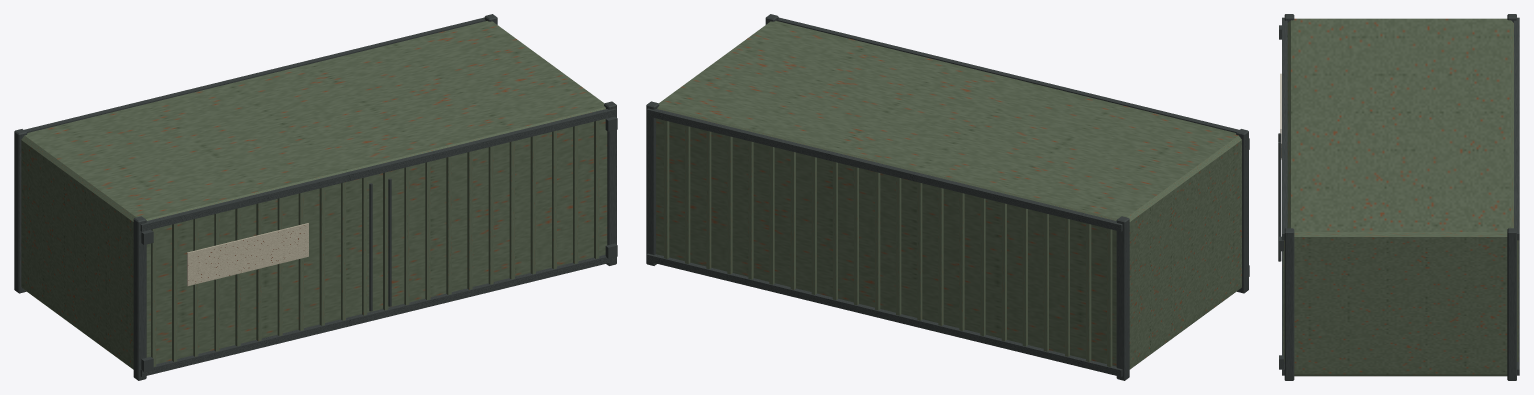
Rendered from ShippingContainer.fbx.
The picture shows the model from 3 angles, left to right: view 1: azimuth 30°, elevation 25°; view 2: azimuth 150°, elevation 25°; view 3: azimuth 270°, elevation 25°; orthographic projection. The views are drawn at different scales.
Parts seen in each view (by area): view 1: ShippingContainer; view 2: ShippingContainer; view 3: ShippingContainer.
Part boxes in pixels (x1,y1,x2,y2): ShippingContainer: (14, 14, 617, 380); ShippingContainer: (646, 14, 1249, 380); ShippingContainer: (1278, 14, 1519, 380).
Size of the model in its own units: 909 by 290 by 425.
Materials: 1 (1 with a texture image).
